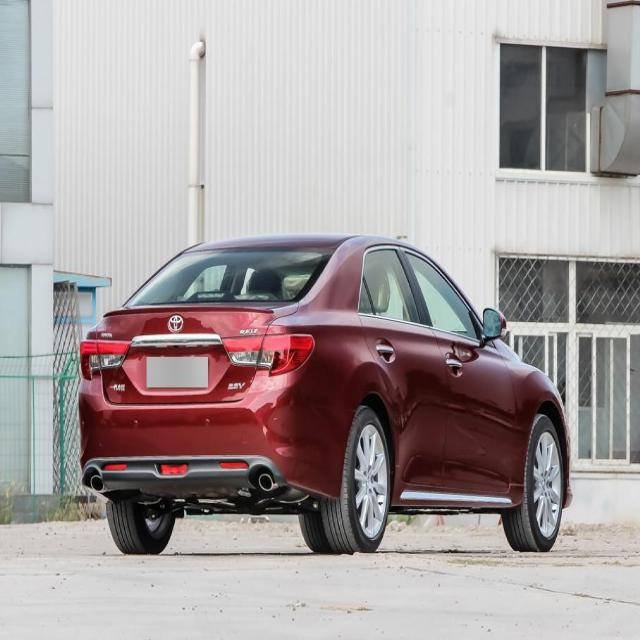back_glass: (122, 246, 335, 302)
back_left_side_light: (78, 338, 136, 380)
back_right_side_light: (223, 332, 316, 379)
door: (353, 247, 455, 506)
front_right_side_door: (398, 242, 519, 502)
front_right_side_mirror: (479, 306, 507, 346)
rear_bumper: (77, 377, 344, 503)
wheel: (319, 405, 389, 550), (502, 410, 562, 549), (104, 491, 178, 555)
